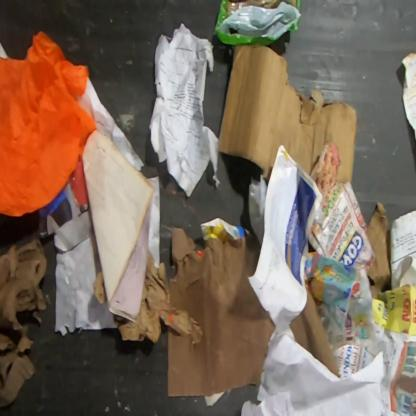cardboard: (218, 45, 358, 185), (308, 142, 376, 275), (0, 238, 52, 408), (368, 201, 391, 290)
soft_plastic: (213, 0, 303, 46), (248, 174, 267, 248)
